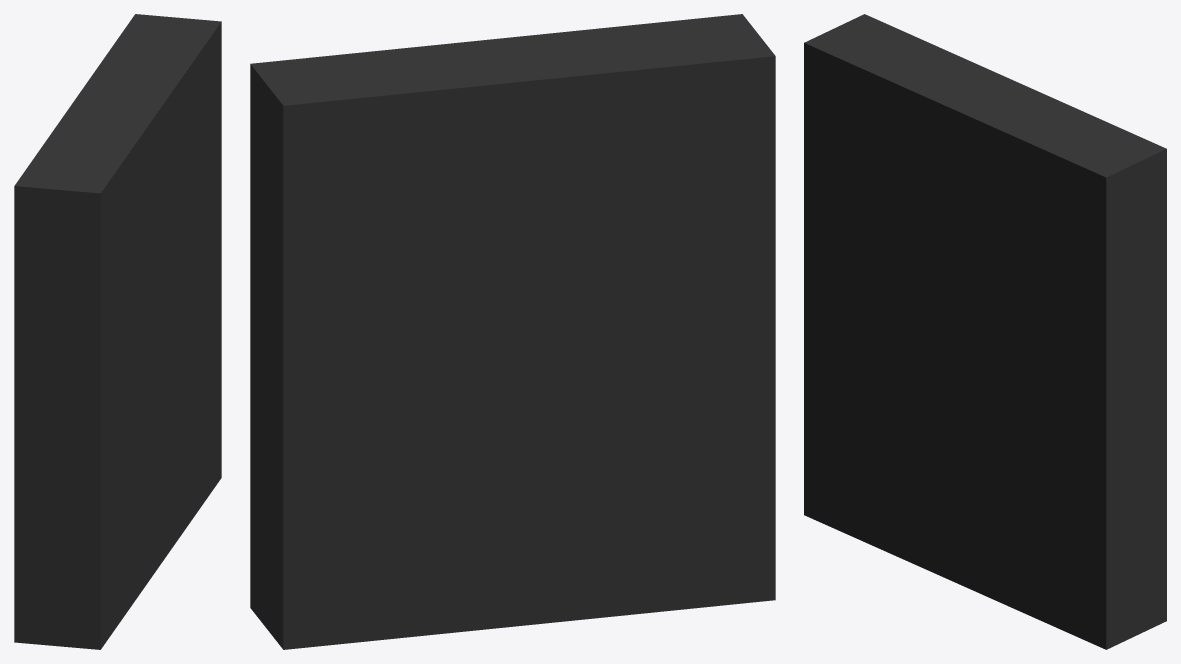
Rendered from Breakable4.fbx.
The picture shows the model from 3 angles, left to right: view 1: azimuth 30°, elevation 25°; view 2: azimuth 150°, elevation 25°; view 3: azimuth 270°, elevation 25°; orthographic projection. The views are drawn at different scales.
Visible parts, largest first — view 1: Breakable5; view 2: Breakable5; view 3: Breakable5.
Boxes of the visible parts, bbox=[...] form: Breakable5: bbox=[14, 14, 221, 649]; Breakable5: bbox=[250, 14, 775, 649]; Breakable5: bbox=[804, 14, 1166, 649].
Bounding box in the file's own units: 31.49 × 42.4 × 29.51.
Materials: 1 (1 with a texture image).
